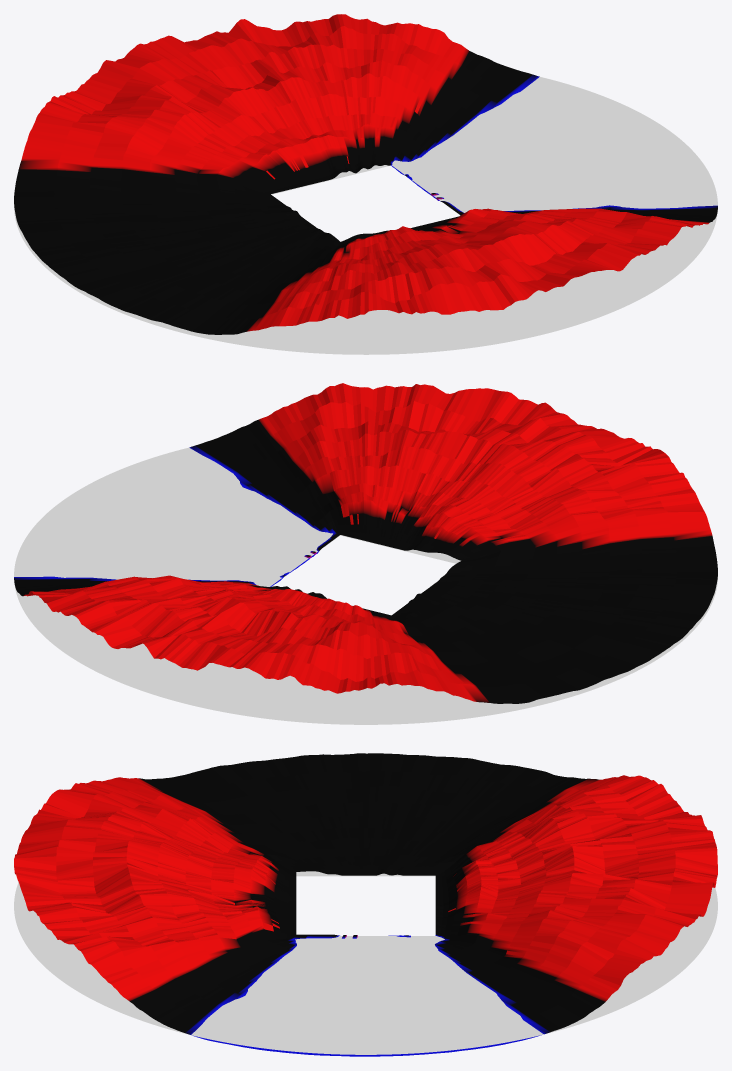
The model's file is world_backdrop_2km.glb.
3 views of the same model, one above another, from view 1: azimuth 30°, elevation 25°; view 2: azimuth 150°, elevation 25°; view 3: azimuth 270°, elevation 25° (orthographic).
Parts seen in each view (by area): view 1: backdrop, backdrop sea; view 2: backdrop, backdrop sea; view 3: backdrop, backdrop sea.
Boxes of the visible parts, bbox=[...] form: backdrop: bbox=[14, 14, 717, 334]; backdrop sea: bbox=[14, 77, 717, 354]; backdrop: bbox=[14, 383, 717, 703]; backdrop sea: bbox=[14, 447, 717, 724]; backdrop: bbox=[14, 753, 717, 1056]; backdrop sea: bbox=[14, 871, 717, 1054].
Size of the model in its own units: 10000 by 827 by 10000.
